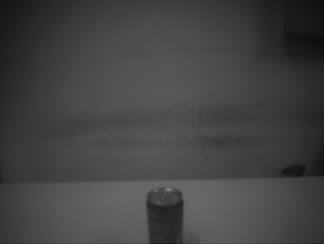Tin can: (145, 185, 184, 244)
